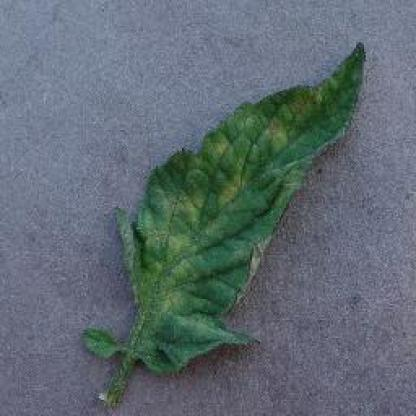bad leaf: (109, 52, 364, 370)
